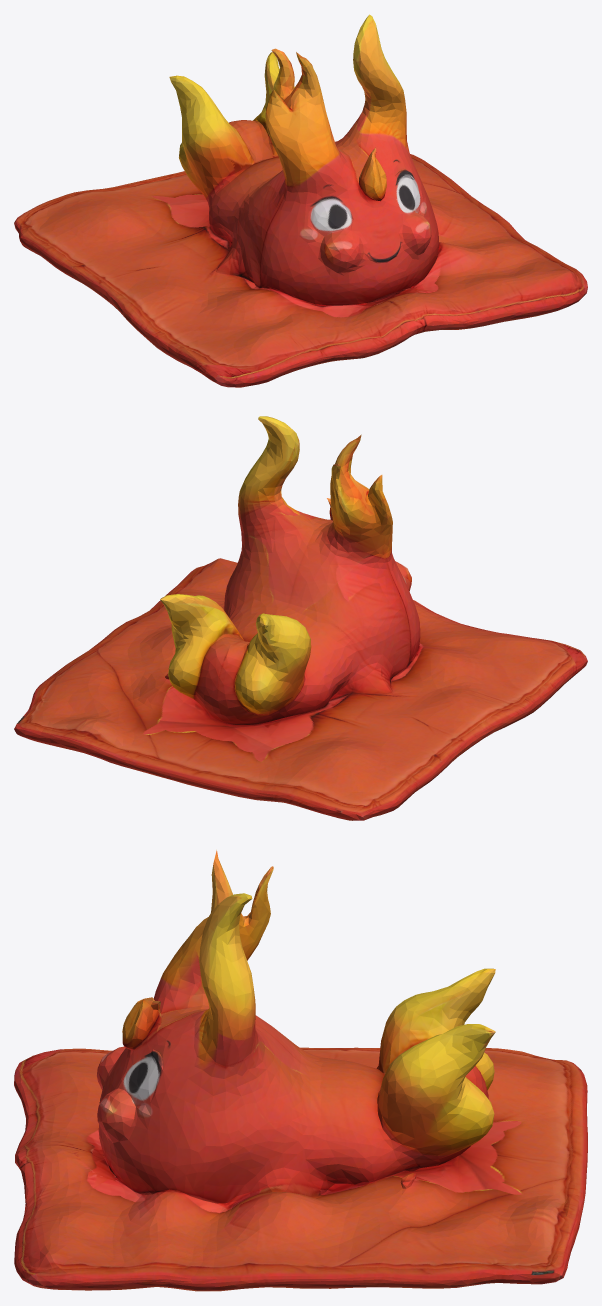
File: 카툰형식의_불장_0604131130_texture.fbx
The picture shows the model from 3 angles, top to bottom: view 1: azimuth 30°, elevation 25°; view 2: azimuth 150°, elevation 25°; view 3: azimuth 270°, elevation 25°; orthographic projection. The views are drawn at different scales.
Parts seen in each view (by area): view 1: temp; view 2: temp; view 3: temp.
Boxes of the visible parts, box(x1,y1,x2,y2) form: temp: box(14, 14, 587, 387); temp: box(14, 416, 587, 820); temp: box(14, 850, 587, 1291).
Bounding box in the file's own units: 194 × 126 × 200.
1 material, 1 textured.
